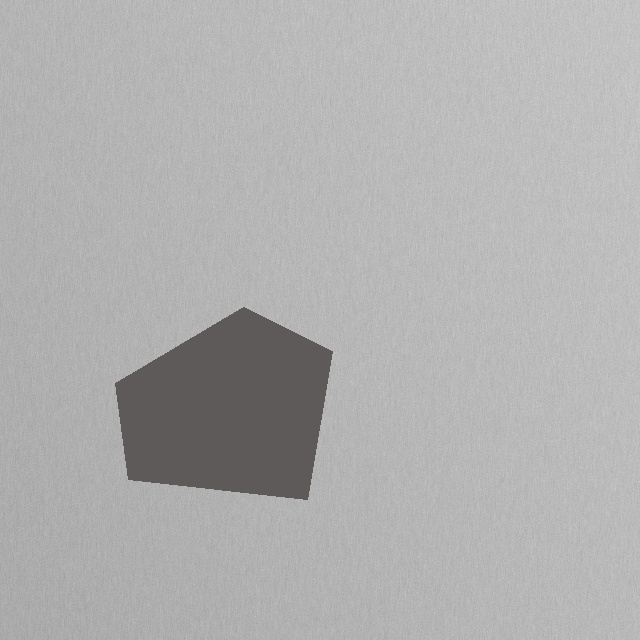patches: (90, 120, 540, 530)
